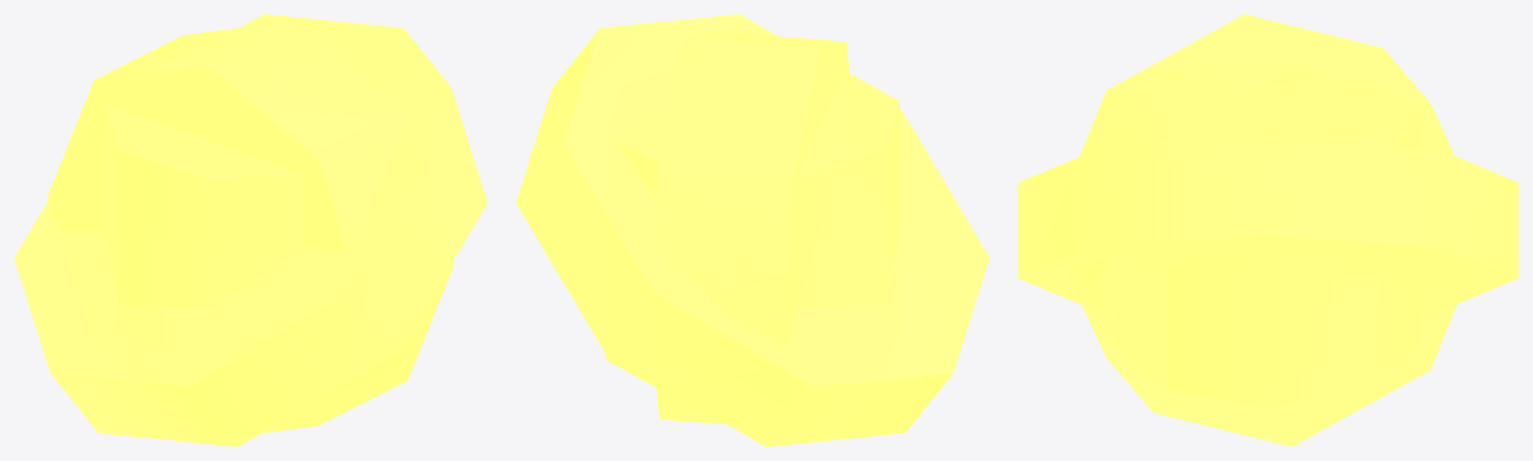
Rendered from fire.glb.
3 renders of one model, left to right at view 1: azimuth 30°, elevation 25°; view 2: azimuth 150°, elevation 25°; view 3: azimuth 270°, elevation 25°, orthographic.
Visible parts, largest first — view 1: Vfx_fire; view 2: Vfx_fire; view 3: Vfx_fire.
Part boxes in pixels (bbox=[...]): Vfx_fire: bbox=[14, 14, 487, 446]; Vfx_fire: bbox=[516, 14, 989, 446]; Vfx_fire: bbox=[1018, 14, 1518, 446].
Size of the model in its own units: 0.6701 by 0.6 by 0.72.
